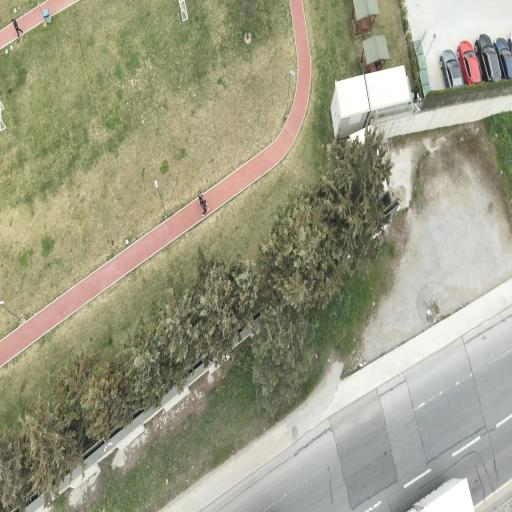car: (475, 34, 501, 82), (458, 41, 481, 84), (440, 50, 463, 88), (495, 38, 511, 79)
person: (198, 192, 209, 216), (12, 19, 23, 36), (202, 201, 209, 216), (198, 192, 204, 205)
